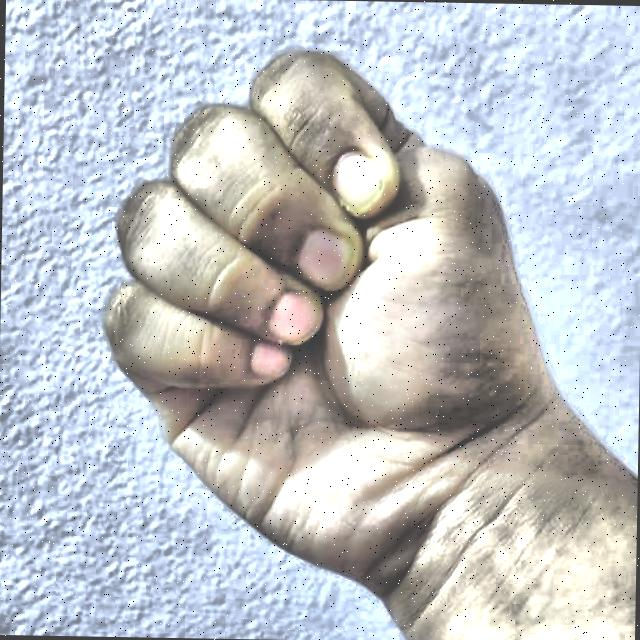To: (82, 25, 564, 640)
